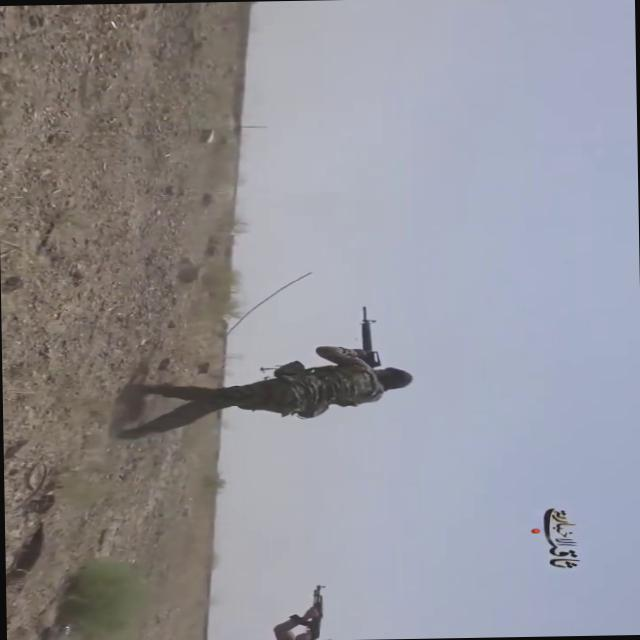long weapon: (341, 304, 388, 366)
